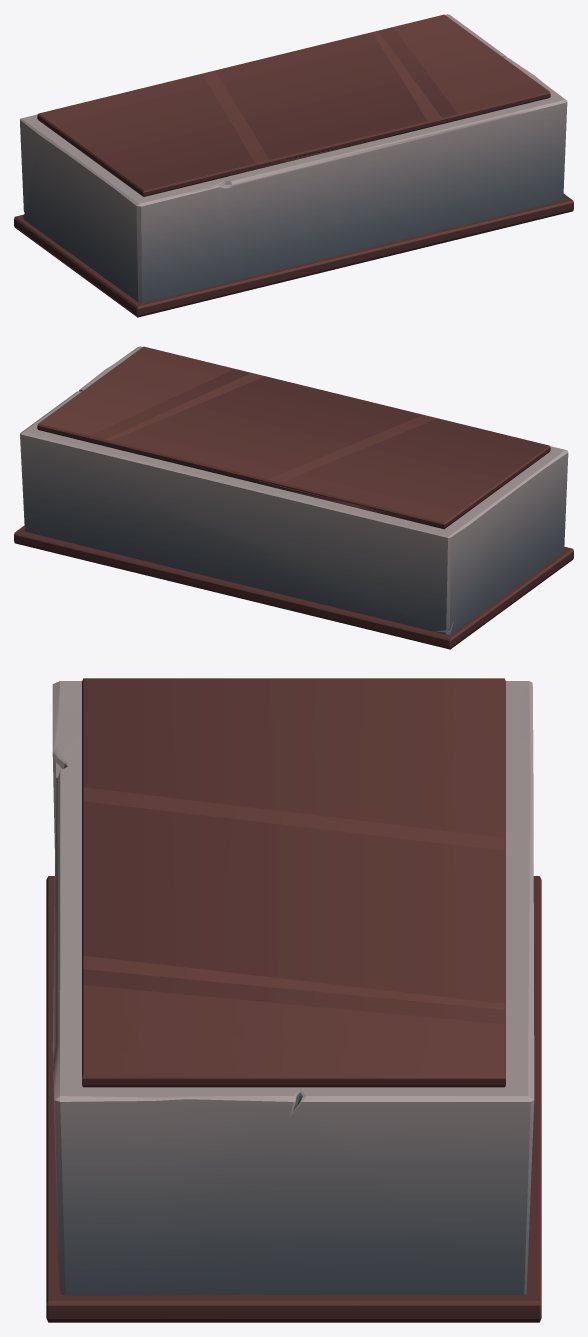
The model's file is DisplayCase_High_2x4_Classic_A.fbx.
3 views of the same model, one above another, from view 1: azimuth 30°, elevation 25°; view 2: azimuth 150°, elevation 25°; view 3: azimuth 270°, elevation 25° (orthographic). The views are drawn at different scales.
Visible parts, largest first — view 1: DisplayCase_High_2x4_Classic_A; view 2: DisplayCase_High_2x4_Classic_A; view 3: DisplayCase_High_2x4_Classic_A.
Part boxes in pixels (bbox=[...]): DisplayCase_High_2x4_Classic_A: bbox=[14, 14, 573, 317]; DisplayCase_High_2x4_Classic_A: bbox=[14, 346, 573, 649]; DisplayCase_High_2x4_Classic_A: bbox=[46, 678, 541, 1322].
Size of the model in its own units: 3.91 by 1 by 1.92.
